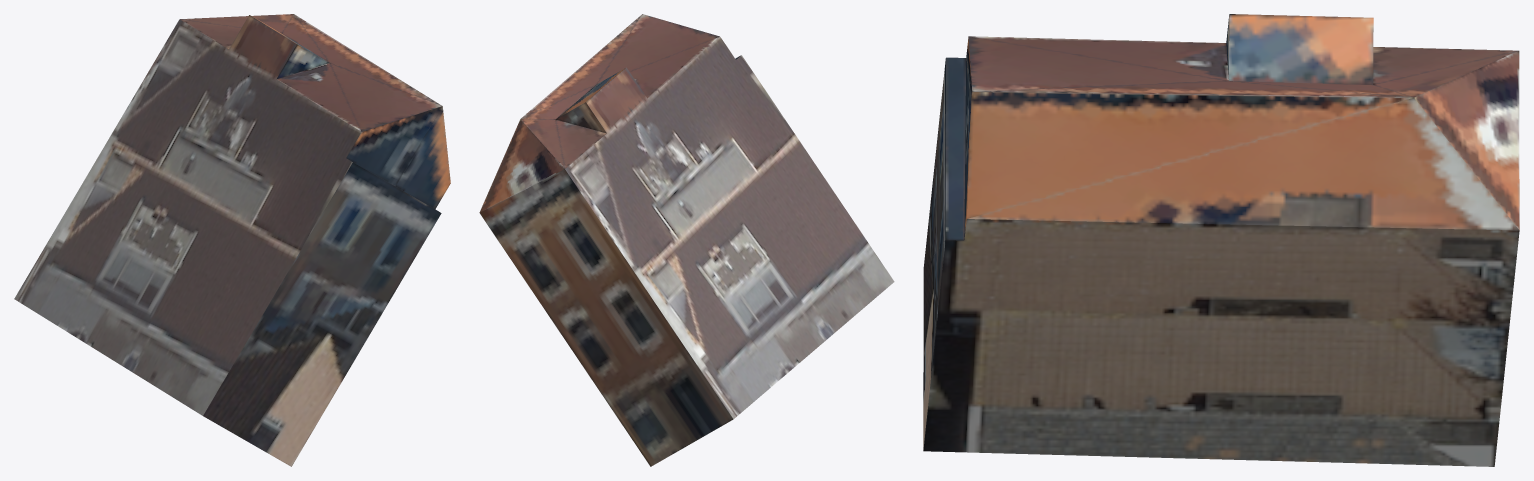
3 renders of one model, left to right at view 1: azimuth 30°, elevation 25°; view 2: azimuth 150°, elevation 25°; view 3: azimuth 270°, elevation 25°, orthographic. The views are drawn at different scales.
Visible parts, largest first — view 1: BAG_0599100000688766 (×3); view 2: BAG_0599100000688766 (×3); view 3: BAG_0599100000688766 (×4).
Part boxes in pixels (<box>): BAG_0599100000688766 (×3): <box>14,14,450,466</box>; BAG_0599100000688766 (×3): <box>479,14,894,466</box>; BAG_0599100000688766 (×4): <box>923,14,1519,466</box>.
Size of the model in its own units: 10.58 by 12.77 by 12.83.
Materials: 4 (4 with a texture image).
